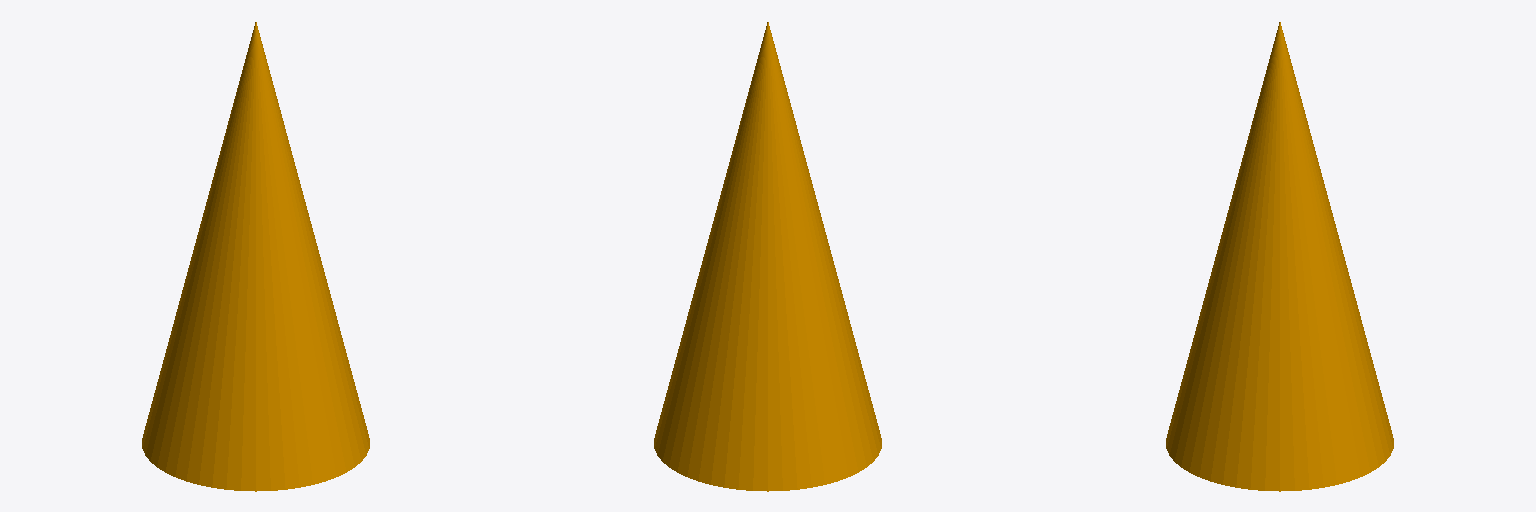
URDF robot description (object):
<?xml version="1.0"?>
<!-- Auto-generated by tools/gen_primitive_objects.py. kind=cone dims=(0.038, 0.155) -->
<robot name="object">
  <link name="object">
    <visual>
      <origin xyz="0 0 0"/>
      <geometry>
        <mesh filename="obj_3.stl"/>
      </geometry>
    </visual>
    <collision>
      <origin xyz="0 0 0"/>
      <geometry>
        <mesh filename="obj_3.stl"/>
      </geometry>
    </collision>
    <inertial>
      <origin xyz="0 0 -0.038750"/>
      <mass value="0.046877"/>
      <inertia ixx="0.00005239" ixy="0.0" ixz="0.0" iyy="0.00005239" iyz="0.0" izz="0.00002031"/>
    </inertial>
  </link>
</robot>

--- Facts derived from the render (not from the file) ---
3 views of the same robot in one strip: view 1: azimuth 30°, elevation 25°; view 2: azimuth 150°, elevation 25°; view 3: azimuth 270°, elevation 25° (orthographic).
Model object with 1 links and 0 joints (none), rooted at object, posed every joint at zero.
Visible links, largest first — view 1: object; view 2: object; view 3: object.
Boxes of the visible links, x1,y1,x2,y2 form: object: [142, 22, 369, 491]; object: [654, 22, 881, 491]; object: [1166, 22, 1393, 491].
Bounding box of the posed robot: 0.076 × 0.076 × 0.155 m (x, y, z).
Meshes: 1 distinct files referenced, 1 mesh visuals loaded (1 binary STL).
